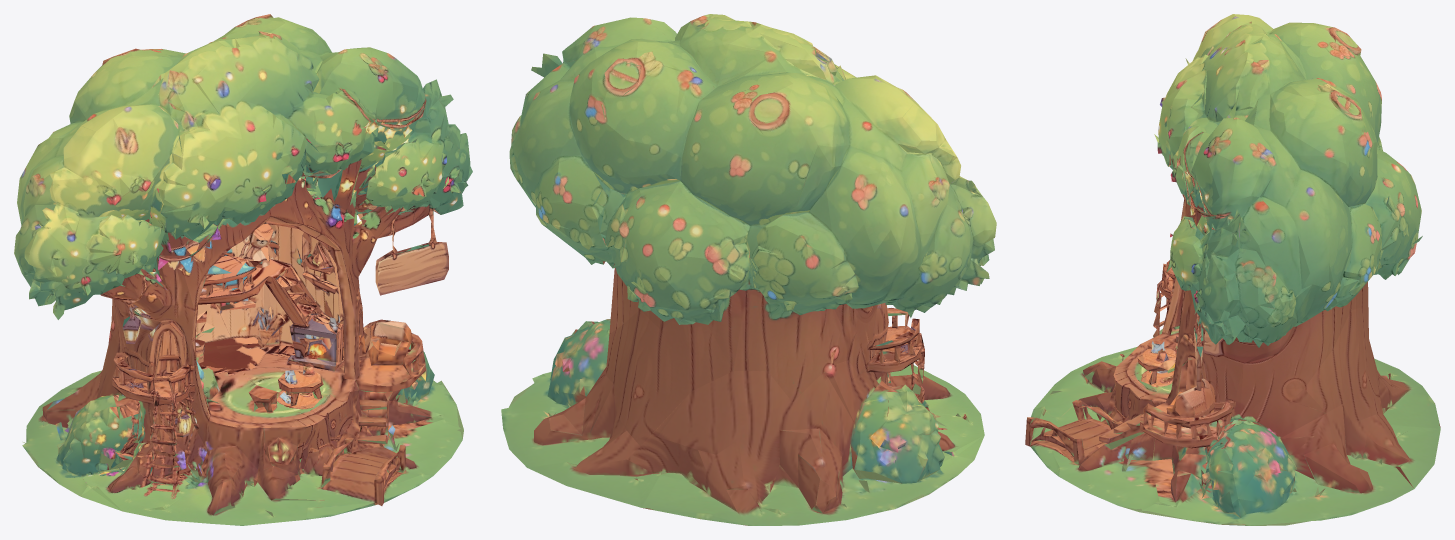
The model's file is keepy_cabin_decor.glb.
The picture shows the model from 3 angles, left to right: view 1: azimuth 30°, elevation 25°; view 2: azimuth 150°, elevation 25°; view 3: azimuth 270°, elevation 25°; orthographic projection. The views are drawn at different scales.
Visible parts, largest first — view 1: output_unwrapped; view 2: output_unwrapped; view 3: output_unwrapped.
Boxes of the visible parts, <box> form: output_unwrapped: <box>14,14,472,525</box>; output_unwrapped: <box>501,14,996,525</box>; output_unwrapped: <box>1025,14,1440,525</box>.
Size of the model in its own units: 1.89 by 1.59 by 1.55.
Materials: 1 (1 with a texture image).
